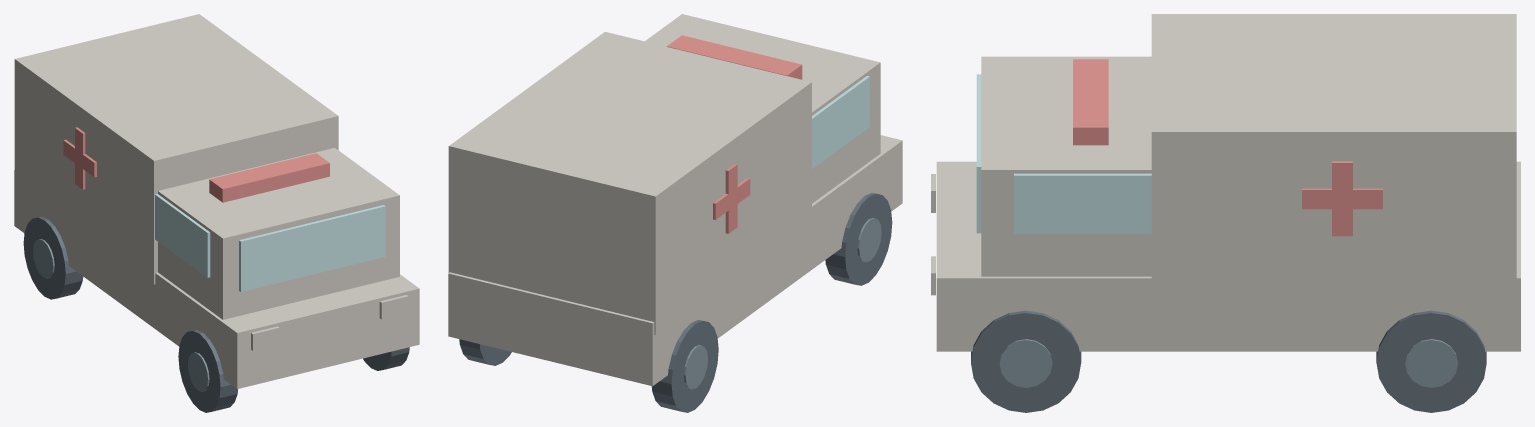
Rendered from ambulance.glb.
3 views of the same model, side by side, from view 1: azimuth 30°, elevation 25°; view 2: azimuth 150°, elevation 25°; view 3: azimuth 270°, elevation 25° (orthographic). The views are drawn at different scales.
Visible parts, largest first — view 1: ambulance_013, ambulance_000, ambulance_009, ambulance_010, ambulance_014, ambulance_011, ambulance_003, ambulance_001, ambulance_005, ambulance_002, ambulance_004, ambulance_016 (+3 smaller); view 2: ambulance_013, ambulance_000, ambulance_009, ambulance_003, ambulance_001, ambulance_011, ambulance_014, ambulance_007, ambulance_002, ambulance_004, ambulance_016, ambulance_015; view 3: ambulance_013, ambulance_000, ambulance_009, ambulance_012, ambulance_005, ambulance_007, ambulance_014, ambulance_006, ambulance_008, ambulance_017, ambulance_018, ambulance_010.
Part boxes in pixels (box(x1,y1,x2,y2)): ambulance_013: box(14, 14, 338, 284); ambulance_000: box(14, 170, 419, 388); ambulance_009: box(158, 148, 399, 319); ambulance_010: box(239, 205, 385, 291); ambulance_014: box(209, 153, 329, 202); ambulance_011: box(155, 194, 210, 277); ambulance_003: box(23, 216, 83, 299); ambulance_001: box(178, 330, 237, 412); ambulance_005: box(363, 347, 409, 370); ambulance_002: box(188, 352, 209, 391); ambulance_004: box(33, 239, 54, 278); ambulance_016: box(75, 127, 85, 189); ambulance_013: box(448, 32, 811, 334); ambulance_000: box(448, 135, 902, 386); ambulance_009: box(645, 14, 880, 203); ambulance_003: box(651, 320, 718, 412); ambulance_001: box(825, 193, 892, 285); ambulance_011: box(812, 76, 869, 168); ambulance_014: box(667, 35, 802, 79); ambulance_007: box(459, 339, 511, 365); ambulance_002: box(857, 218, 881, 262); ambulance_004: box(684, 345, 707, 389); ambulance_016: box(725, 164, 737, 233); ambulance_015: box(713, 177, 750, 219); ambulance_013: box(1151, 14, 1516, 293); ambulance_000: box(936, 161, 1520, 351); ambulance_009: box(981, 56, 1151, 276); ambulance_012: box(1014, 173, 1151, 234); ambulance_005: box(971, 310, 1081, 412); ambulance_007: box(1376, 310, 1486, 412); ambulance_014: box(1073, 59, 1108, 145); ambulance_006: box(999, 339, 1052, 387); ambulance_008: box(1405, 339, 1457, 387); ambulance_017: box(1302, 188, 1382, 209); ambulance_018: box(1332, 161, 1352, 236); ambulance_010: box(976, 74, 981, 233).
Size of the model in its own units: 1.8 by 1.9 by 3.64.
